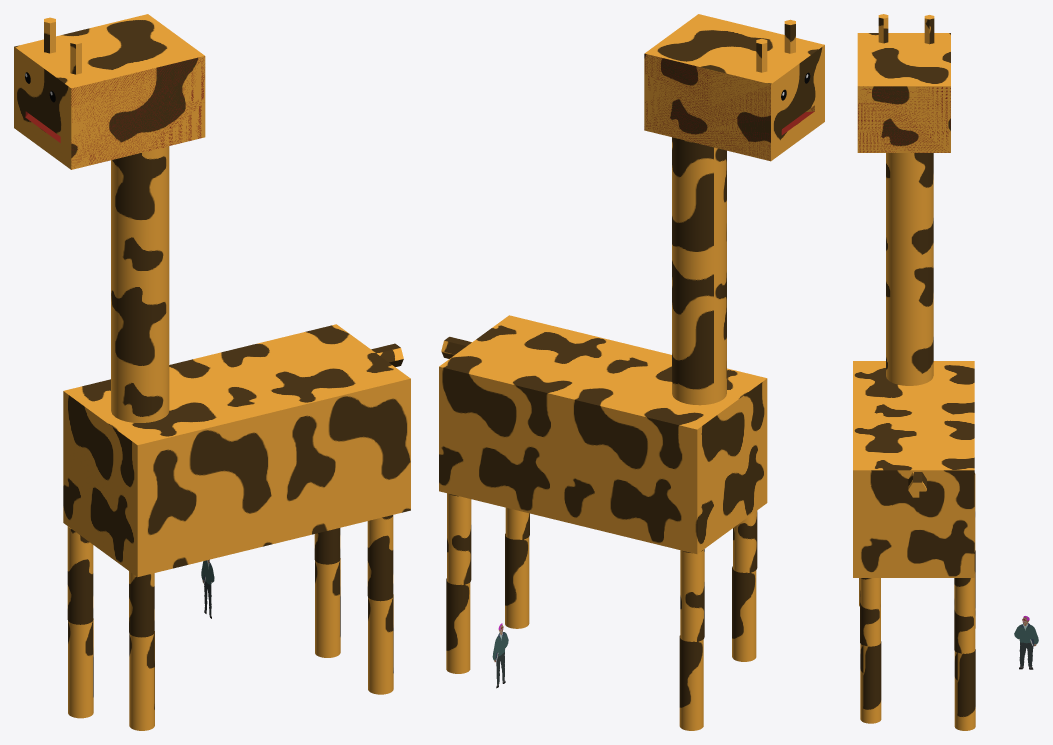
The model's file is giraffe2dae.dae.
3 views of the same model, side by side, from view 1: azimuth 30°, elevation 25°; view 2: azimuth 150°, elevation 25°; view 3: azimuth 270°, elevation 25° (orthographic). The views are drawn at different scales.
Parts seen in each view (by area): view 1: SketchUp (×12); view 2: SketchUp (×12); view 3: SketchUp (×9), Steve.
Boxes of the visible parts, x1=… form: SketchUp (×12): x1=14, y1=14, x2=410, y2=730; SketchUp (×12): x1=439, y1=14, x2=824, y2=730; SketchUp (×9): x1=853, y1=33, x2=975, y2=730; Steve: x1=1014, y1=624, x2=1038, y2=644.
Bounding box in the file's own units: 387 × 209 × 732.
13 materials, 1 textured.
